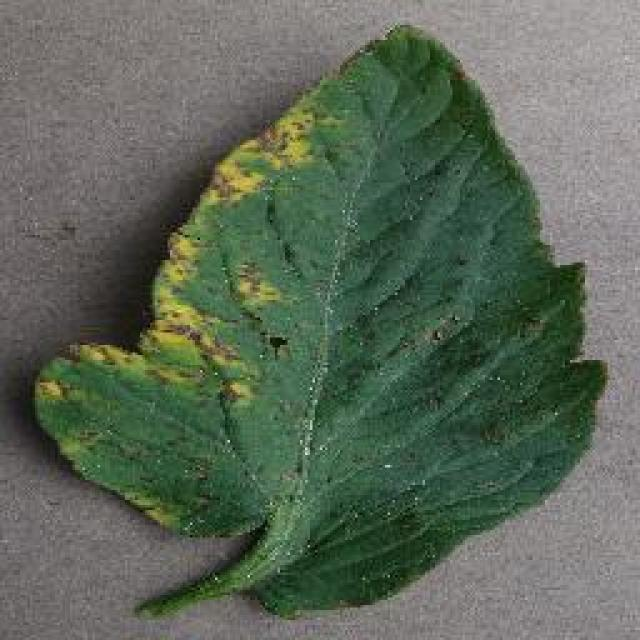Tomato___Bacterial_spot: (29, 23, 610, 627)
